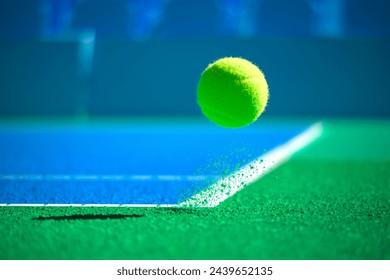ball_tennis: (195, 57, 270, 129)
